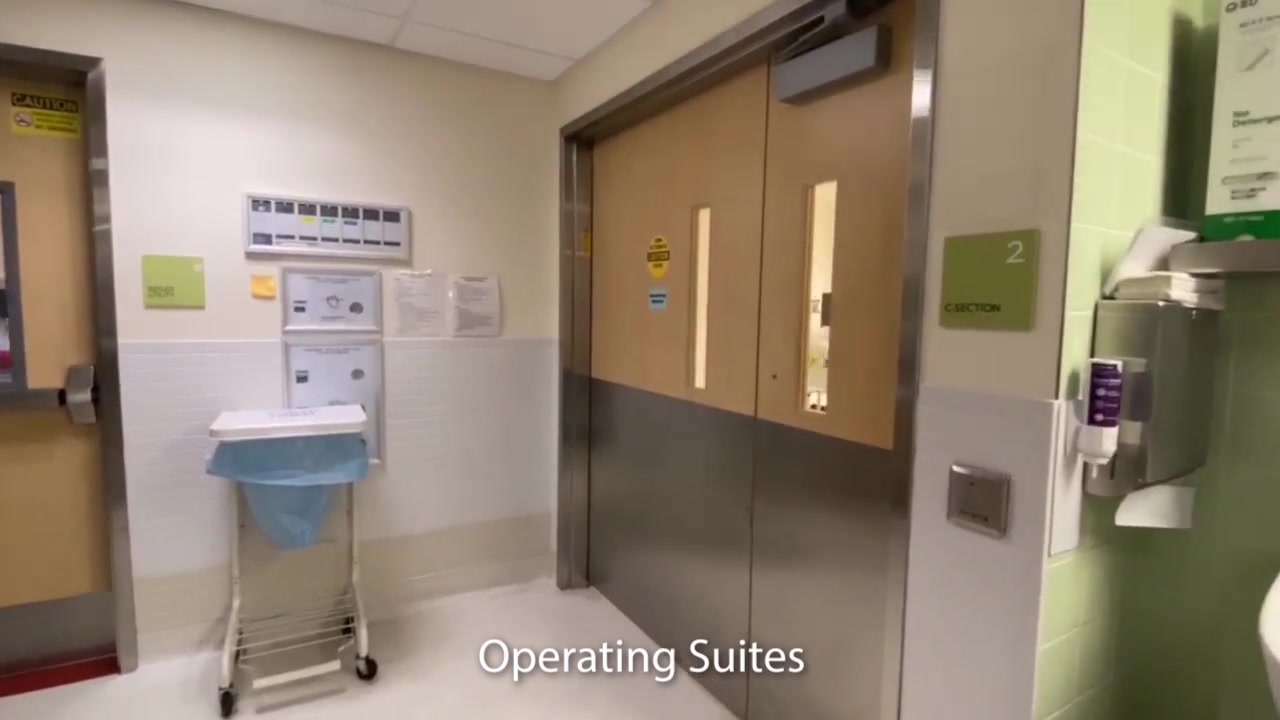dispenser: (1083, 296, 1222, 497), (1076, 358, 1123, 480)
press_to_open: (944, 455, 1011, 546)
push_latch: (1, 361, 100, 426)
waste_bin: (205, 404, 379, 720)
